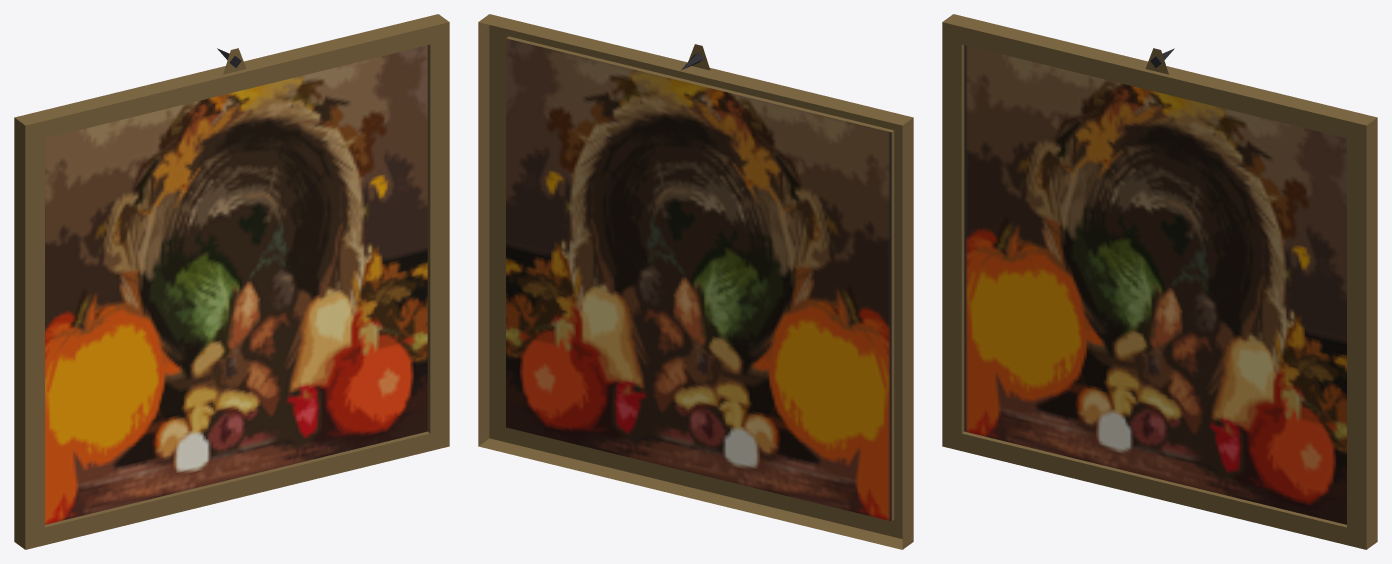
The model's file is Paint_5.fbx.
The picture shows the model from 3 angles, left to right: view 1: azimuth 30°, elevation 25°; view 2: azimuth 150°, elevation 25°; view 3: azimuth 330°, elevation 25°; orthographic projection.
Visible parts, largest first — view 1: polySurface2956; view 2: polySurface2956; view 3: polySurface2956.
Boxes of the visible parts, x1,y1,x2,y2 form: polySurface2956: (14, 14, 449, 549); polySurface2956: (478, 14, 913, 549); polySurface2956: (942, 14, 1377, 549).
Bounding box in the file's own units: 132 × 133 × 11.26.
